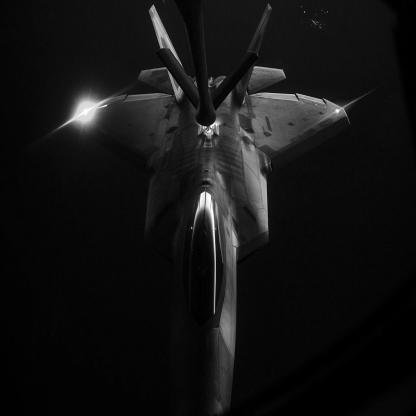F22: (72, 4, 351, 416)
